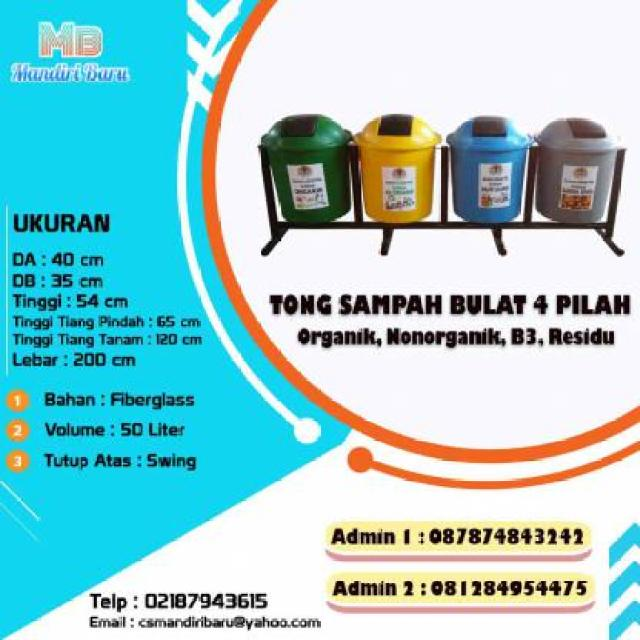garbage container: (350, 106, 444, 232), (444, 107, 536, 230), (258, 112, 354, 228), (531, 107, 623, 228)
